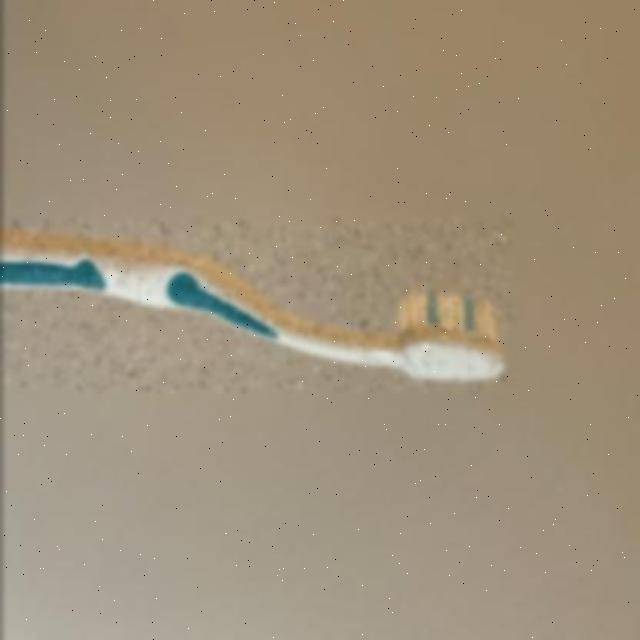toothbrush: (0, 220, 510, 392)
